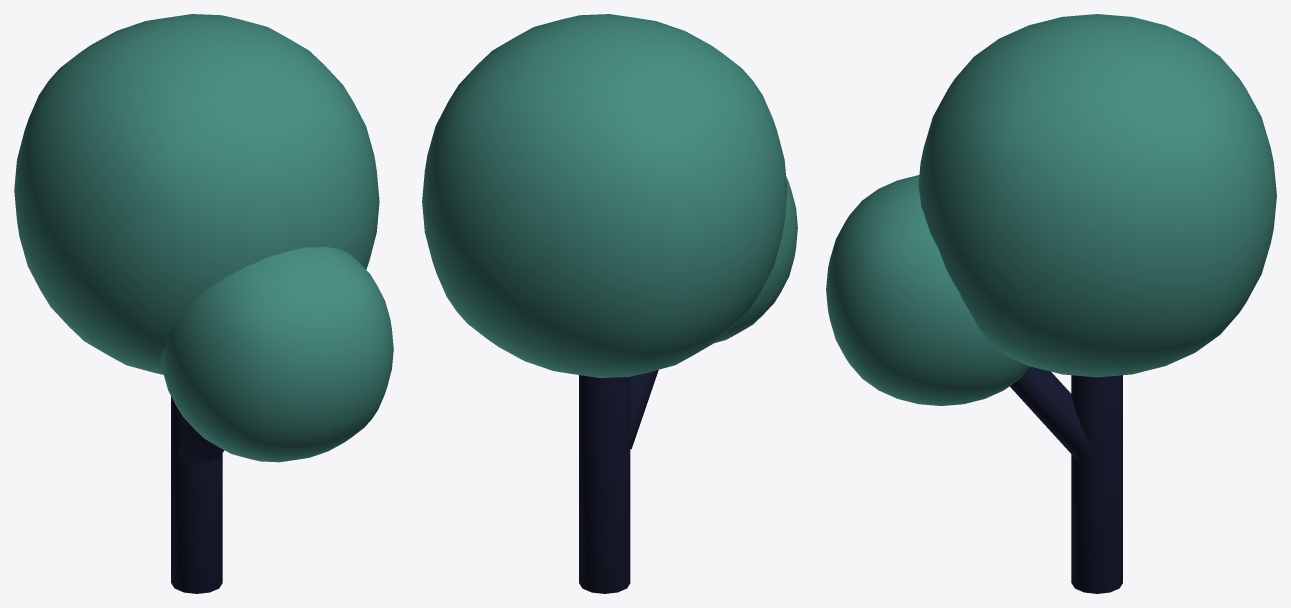
The model's file is arbre-fancy-printemps.gltf.
3 renders of one model, left to right at view 1: azimuth 30°, elevation 25°; view 2: azimuth 150°, elevation 25°; view 3: azimuth 270°, elevation 25°, orthographic.
Parts seen in each view (by area): view 1: Cube.001, Cube.003, Cylinder.004, Cylinder.005; view 2: Cube.001, Cylinder.004, Cube.003, Cylinder.005; view 3: Cube.001, Cube.003, Cylinder.004, Cylinder.005.
Part boxes in pixels (bbox=[...]): Cube.001: bbox=[14, 14, 379, 374]; Cube.003: bbox=[161, 246, 393, 462]; Cylinder.004: bbox=[171, 396, 222, 593]; Cylinder.005: bbox=[178, 425, 224, 463]; Cube.001: bbox=[422, 14, 787, 377]; Cylinder.004: bbox=[579, 375, 630, 593]; Cube.003: bbox=[715, 177, 797, 342]; Cylinder.005: bbox=[628, 370, 658, 449]; Cube.001: bbox=[918, 14, 1276, 377]; Cube.003: bbox=[826, 175, 1030, 405]; Cylinder.004: bbox=[1071, 375, 1122, 593]; Cylinder.005: bbox=[1010, 366, 1092, 459].
Size of the model in its own units: 1.31 by 2.22 by 1.65.
